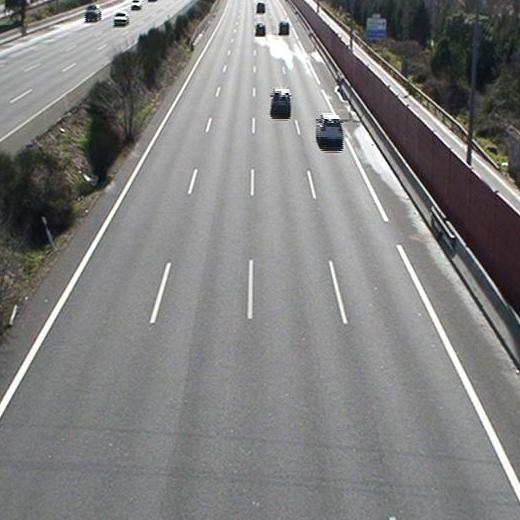car: (315, 112, 344, 147), (270, 87, 291, 116), (254, 22, 266, 35), (279, 21, 290, 35)
